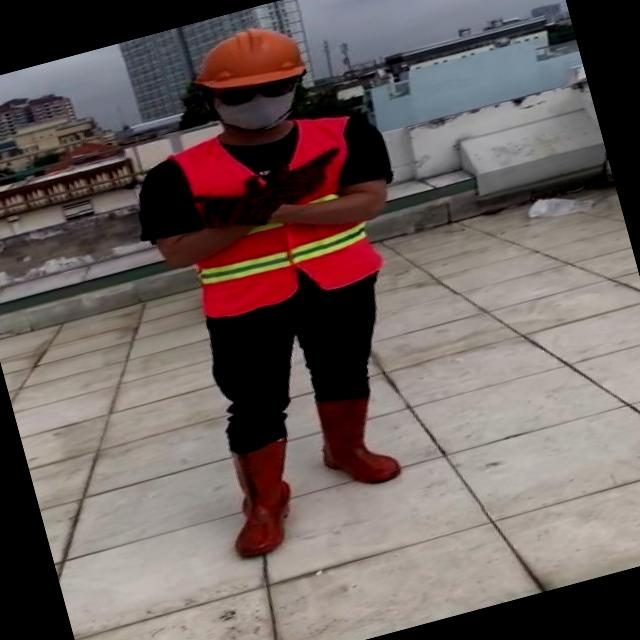boots: (206, 436, 314, 562), (306, 386, 405, 498)
helmet: (184, 11, 318, 102)
vest: (161, 104, 394, 322)
